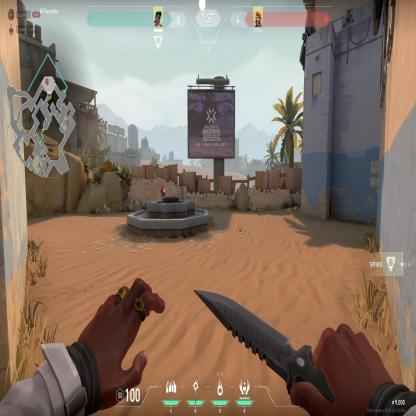enemy: (159, 184, 166, 200)
